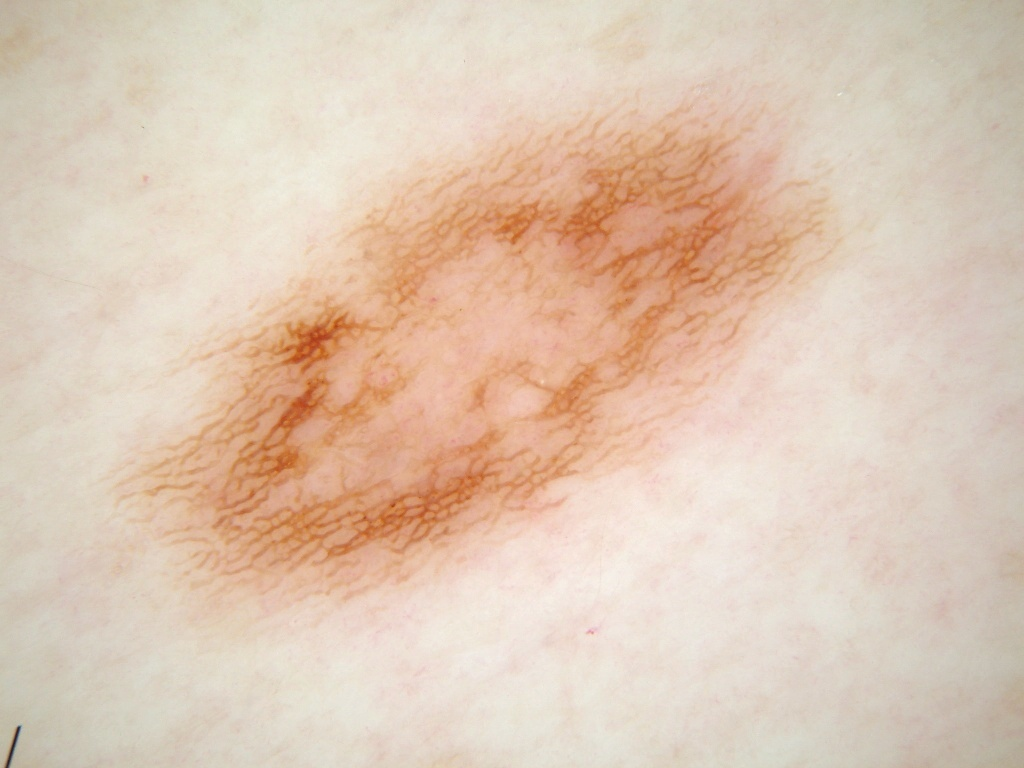Detected Lesion: (92, 83, 835, 600)
